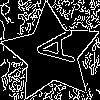A: (26, 28, 75, 68)
